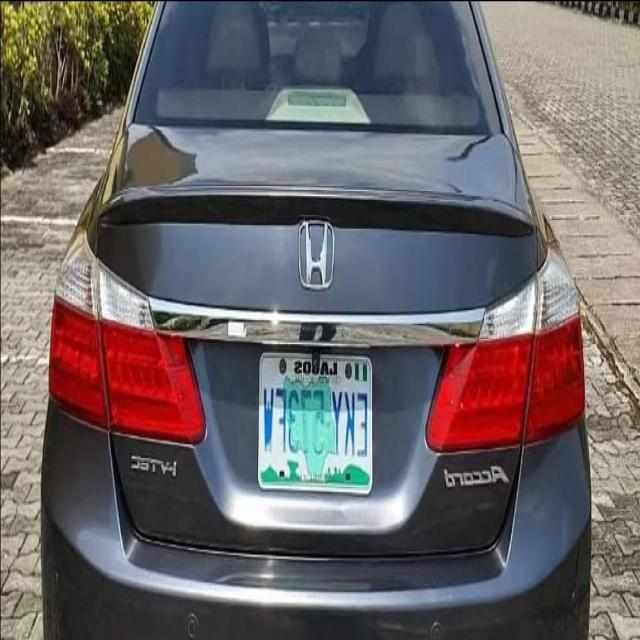Nigerian License Plate - vdataset benjamin-daria: (255, 349, 375, 498)
